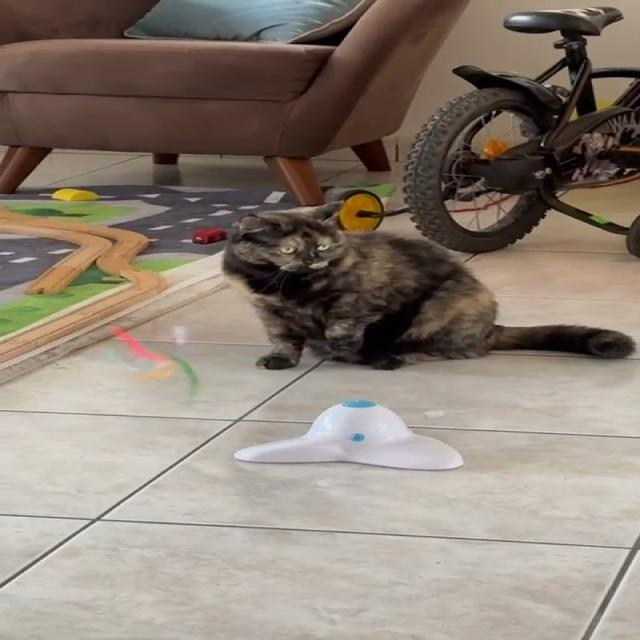authorized: (220, 197, 635, 371)
